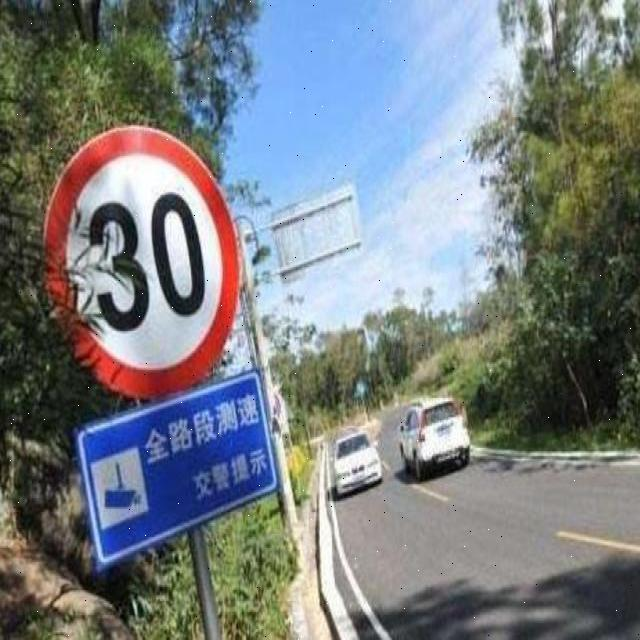speed limit 30: (43, 124, 238, 399)
